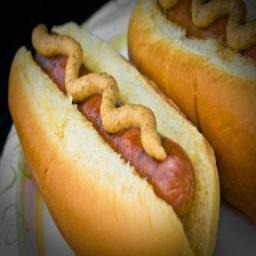hotdog: (8, 16, 218, 256)
